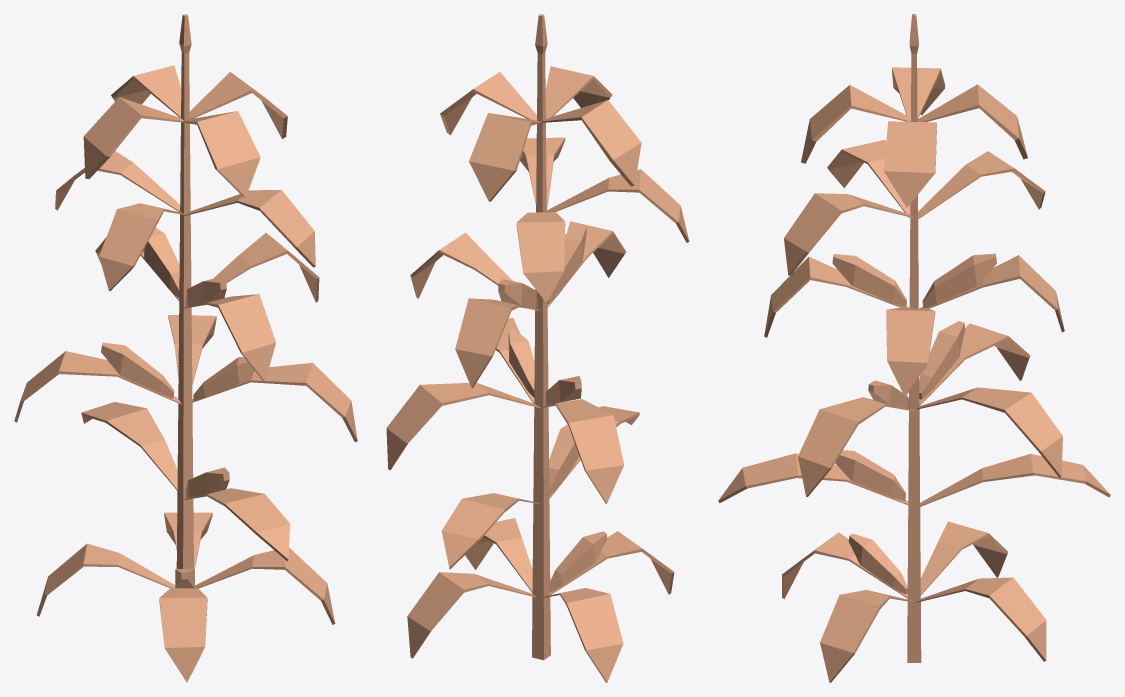
File: fruit_seed.glb
3 renders of one model, left to right at view 1: azimuth 30°, elevation 25°; view 2: azimuth 150°, elevation 25°; view 3: azimuth 270°, elevation 25°, orthographic.
Parts seen in each view (by area): view 1: Corn_2; view 2: Corn_2; view 3: Corn_2.
Part boxes in pixels (x1,y1,x2,y2): Corn_2: (14,14,357,682); Corn_2: (386,14,689,682); Corn_2: (718,14,1110,682).
Size of the model in its own units: 66.43 by 160 by 88.29.
